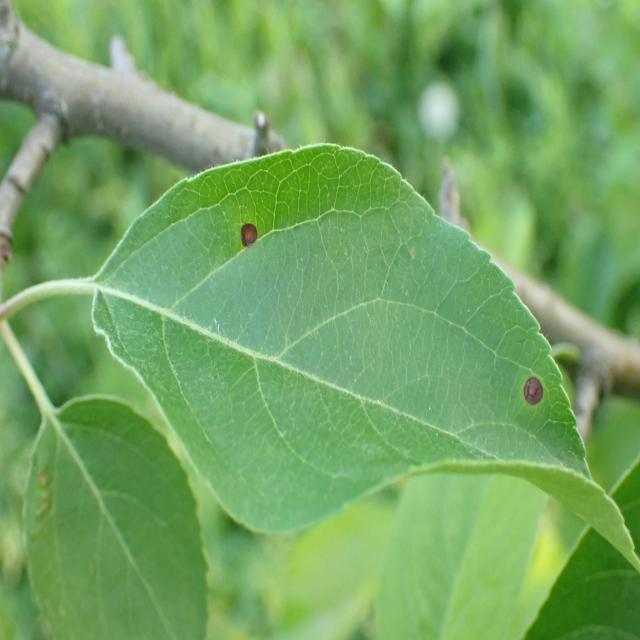Black Rot: (517, 363, 552, 420), (230, 218, 264, 257)
